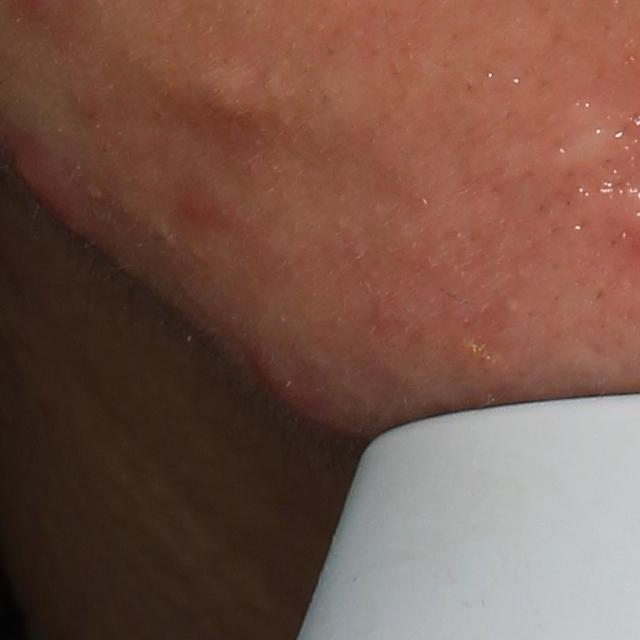hypertrophic_scar: (542, 96, 632, 174), (191, 64, 265, 132)
papule: (4, 141, 114, 260), (247, 337, 327, 399)
